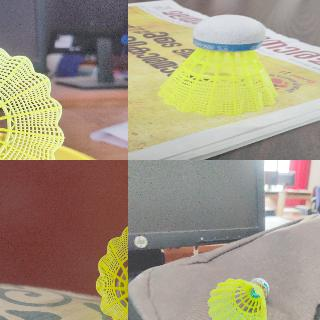shuttlecock: (158, 14, 277, 115), (0, 47, 66, 159), (94, 218, 127, 319), (207, 277, 271, 319)
